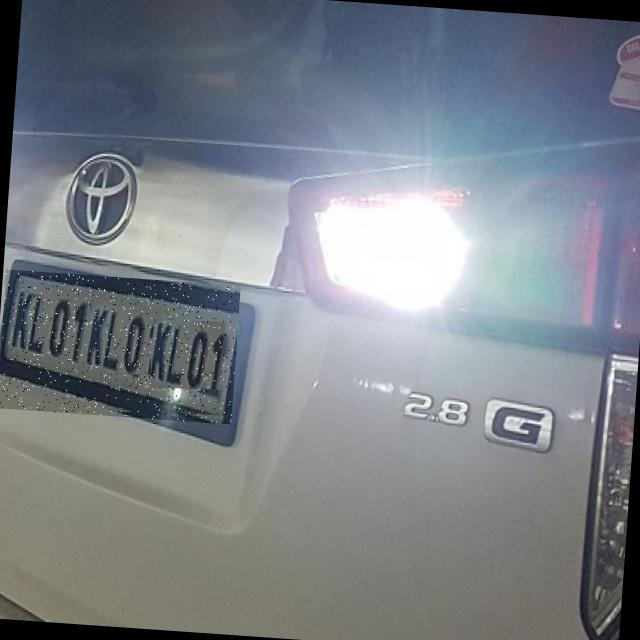Plate: (1, 270, 241, 425)
